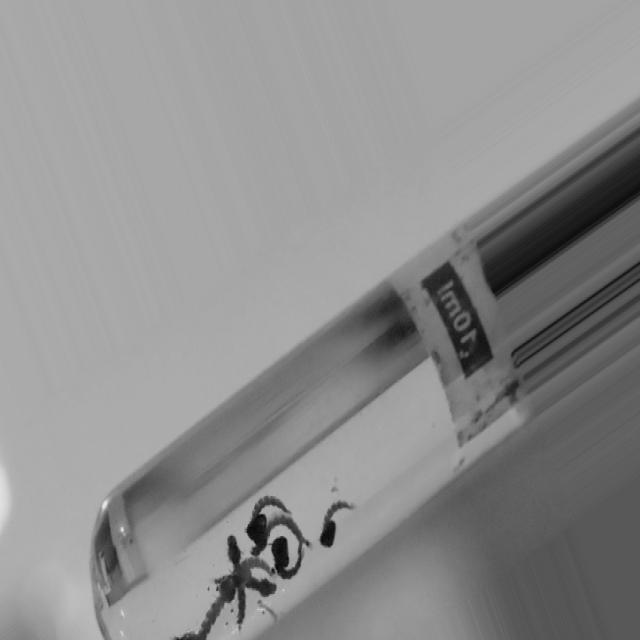larvas: (240, 485, 291, 543), (250, 512, 311, 559), (217, 555, 271, 605), (180, 601, 221, 640), (321, 501, 350, 547), (271, 536, 302, 577), (247, 575, 273, 595), (257, 598, 276, 625), (228, 534, 240, 564)
